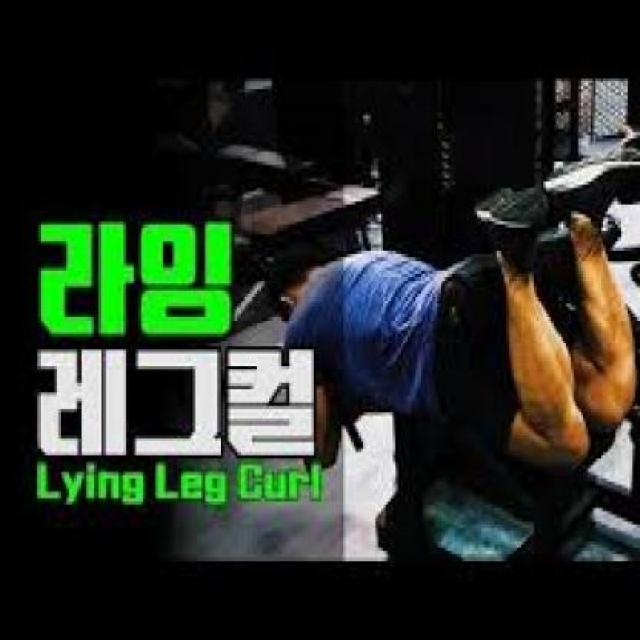reg curl machine: (261, 169, 640, 558)
